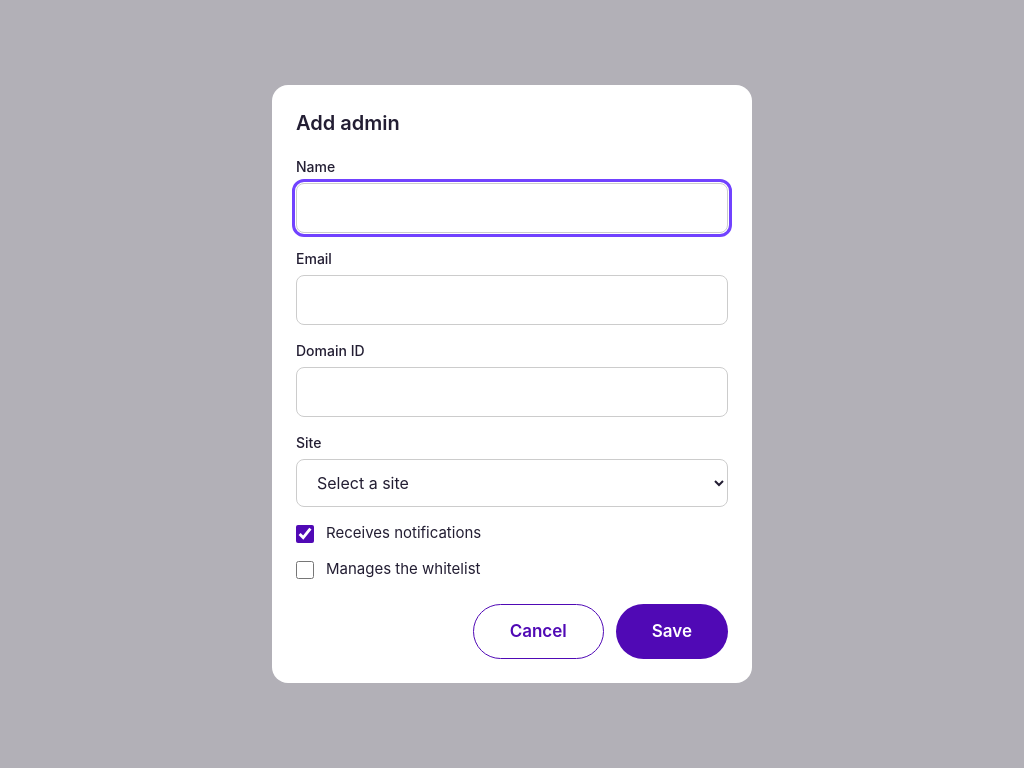
Test: AdminForm › refuses a submission with neither email nor Domain ID
This screenshot has width=1024, height=768.
Type "Juan Cruz" into the field labelled "Name" at (512, 208), box [296, 183, 728, 233]
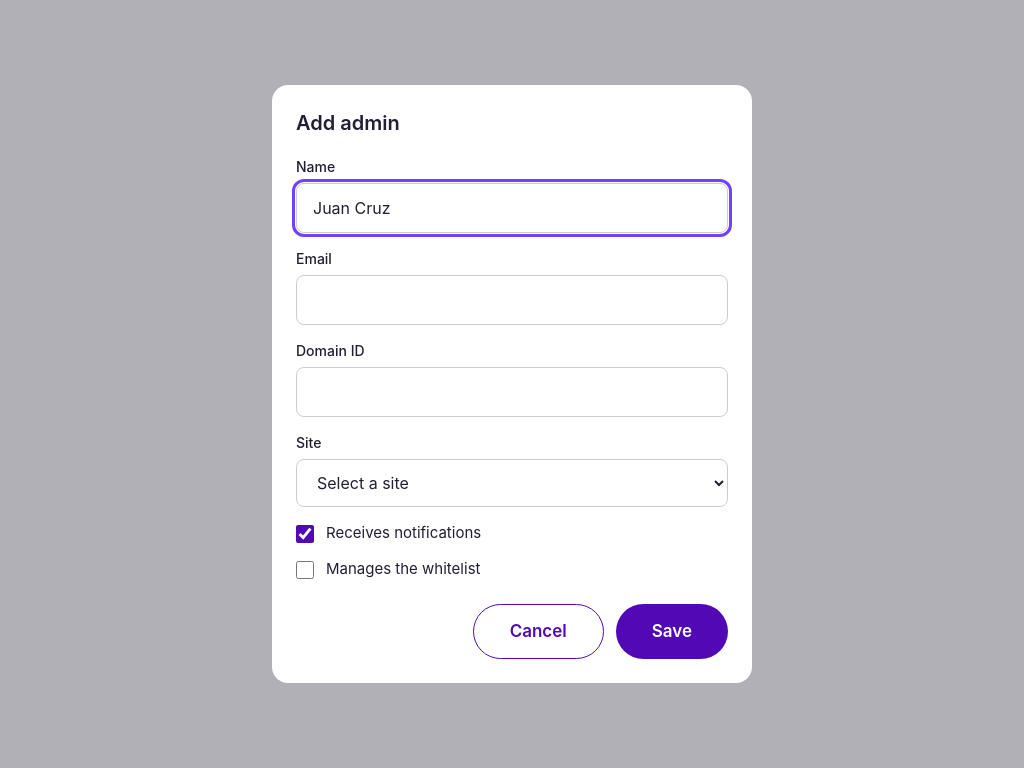
Click the button "Save" at (672, 632), box [616, 604, 728, 659]
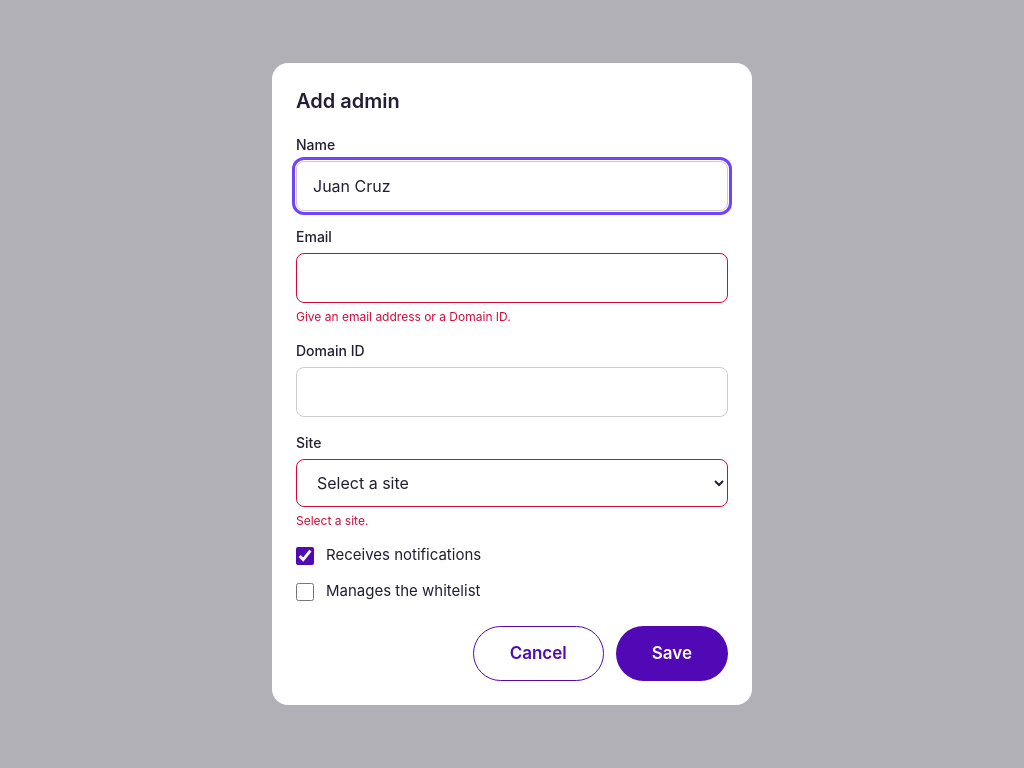
Expected: the text "Give an email address or a Domain ID." is shown, [296, 309, 511, 324]
